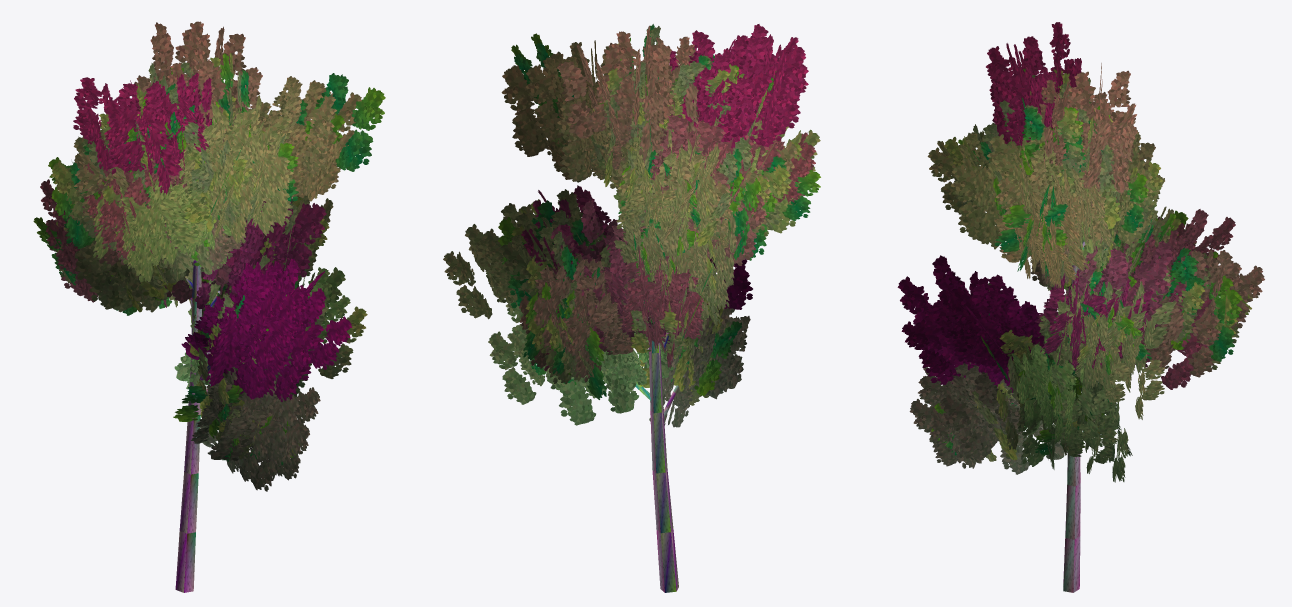
The model's file is nat_birch_b_LOD1.glb.
3 renders of one model, left to right at view 1: azimuth 30°, elevation 25°; view 2: azimuth 150°, elevation 25°; view 3: azimuth 270°, elevation 25°, orthographic. The views are drawn at different scales.
Parts seen in each view (by area): view 1: nat_birch_b_LOD1; view 2: nat_birch_b_LOD1; view 3: nat_birch_b_LOD1.
Boxes of the visible parts, bbox=[...] form: nat_birch_b_LOD1: bbox=[33, 21, 385, 592]; nat_birch_b_LOD1: bbox=[443, 24, 820, 592]; nat_birch_b_LOD1: bbox=[897, 22, 1264, 592].
Size of the model in its own units: 4.97 by 7.49 by 5.07.
Materials: 2 (2 with a texture image).
